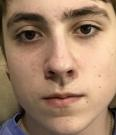without_mask: (2, 1, 116, 135)
